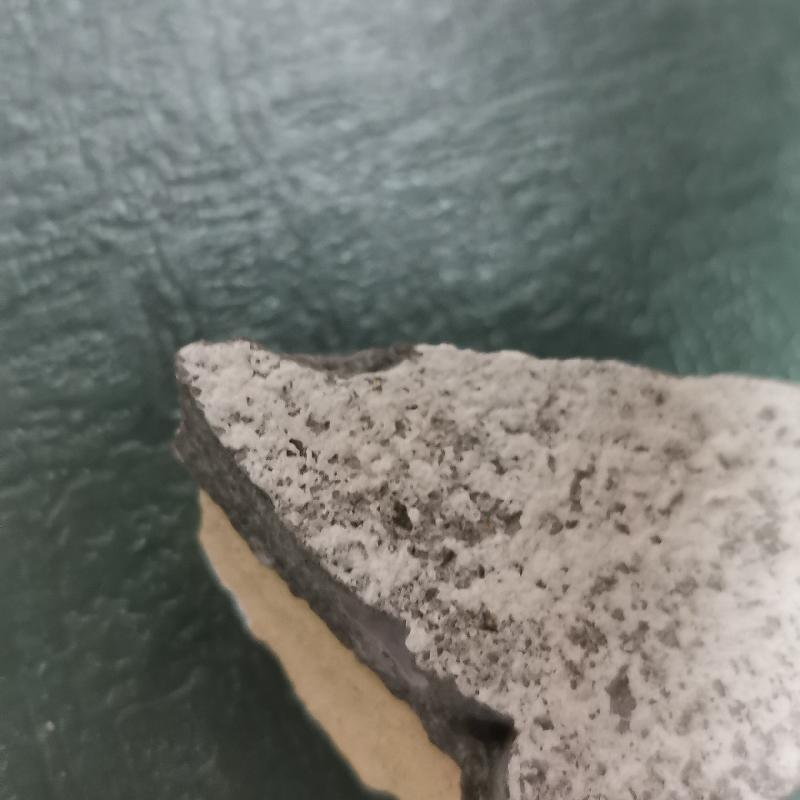tile: (126, 323, 799, 799)
